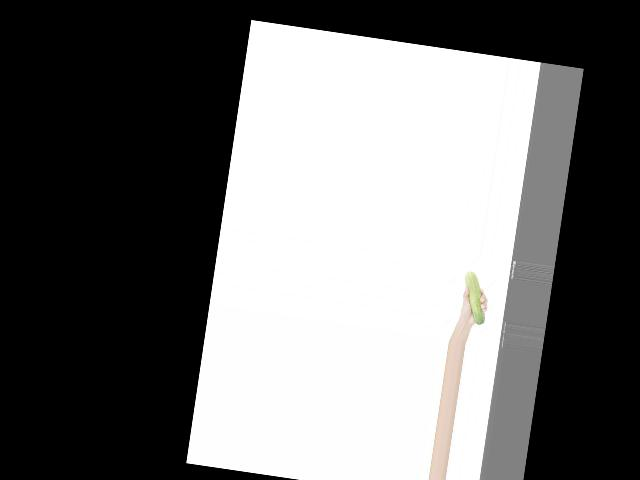cucumber: (458, 271, 491, 326)
